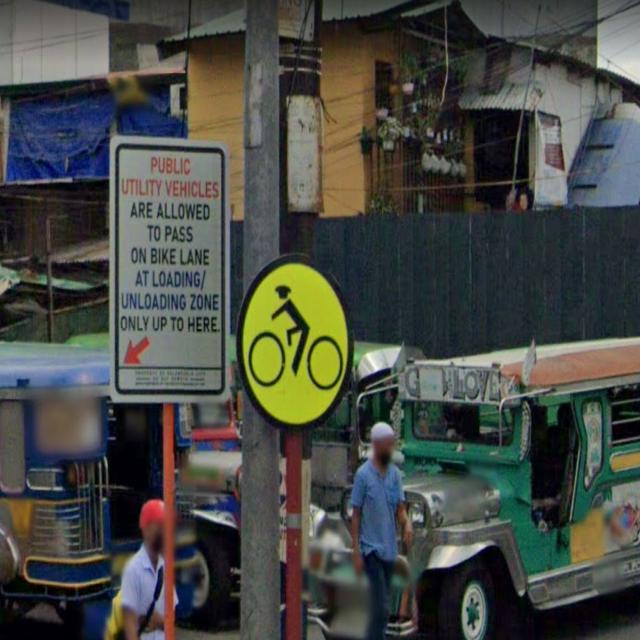bike lane: (236, 253, 354, 431)
